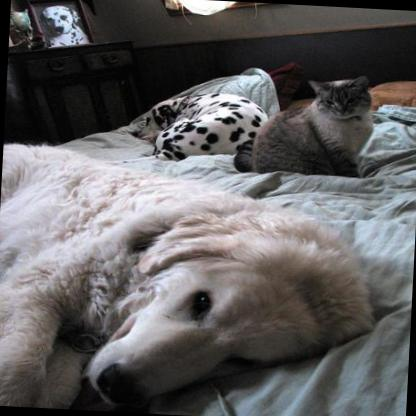kuvasz: (0, 138, 380, 416)
